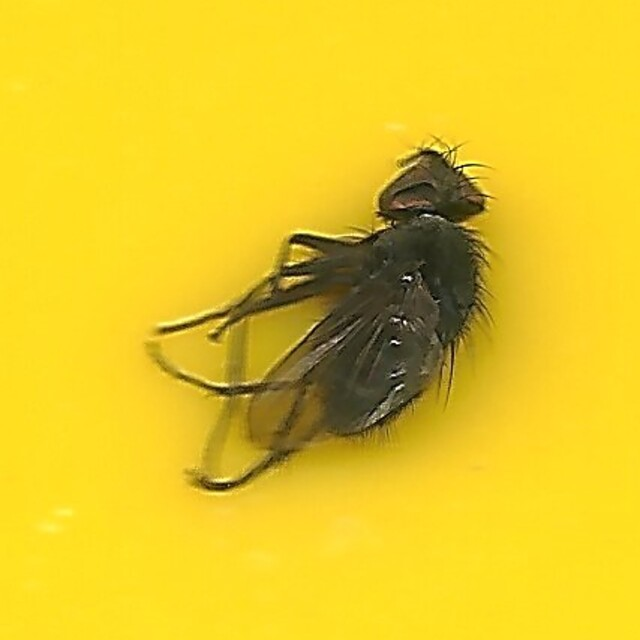Brachycera: (150, 139, 490, 501)
